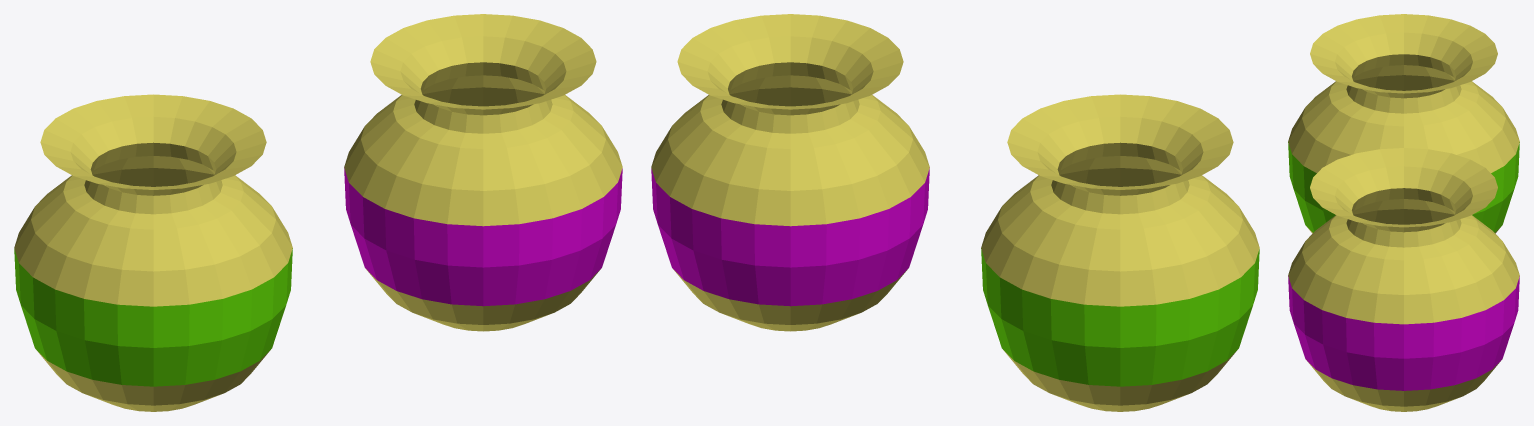
Rendered from jarron.fbx.
3 views of the same model, side by side, from view 1: azimuth 30°, elevation 25°; view 2: azimuth 150°, elevation 25°; view 3: azimuth 270°, elevation 25° (orthographic). The views are drawn at different scales.
Parts seen in each view (by area): view 1: Cube.002, Cube.003; view 2: Cube.002, Cube.003; view 3: Cube.003, Cube.002.
Boxes of the visible parts, <box> form: Cube.002: <box>14,94,292,411</box>; Cube.003: <box>344,14,622,331</box>; Cube.002: <box>981,94,1259,411</box>; Cube.003: <box>651,14,929,331</box>; Cube.003: <box>1288,148,1519,411</box>; Cube.002: <box>1288,14,1519,233</box>.
Bounding box in the file's own units: 173 × 73.89 × 73.15.
